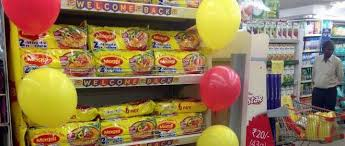maggie: (97, 116, 164, 144), (94, 51, 155, 75), (88, 27, 150, 50), (155, 51, 204, 71), (151, 31, 200, 49)
